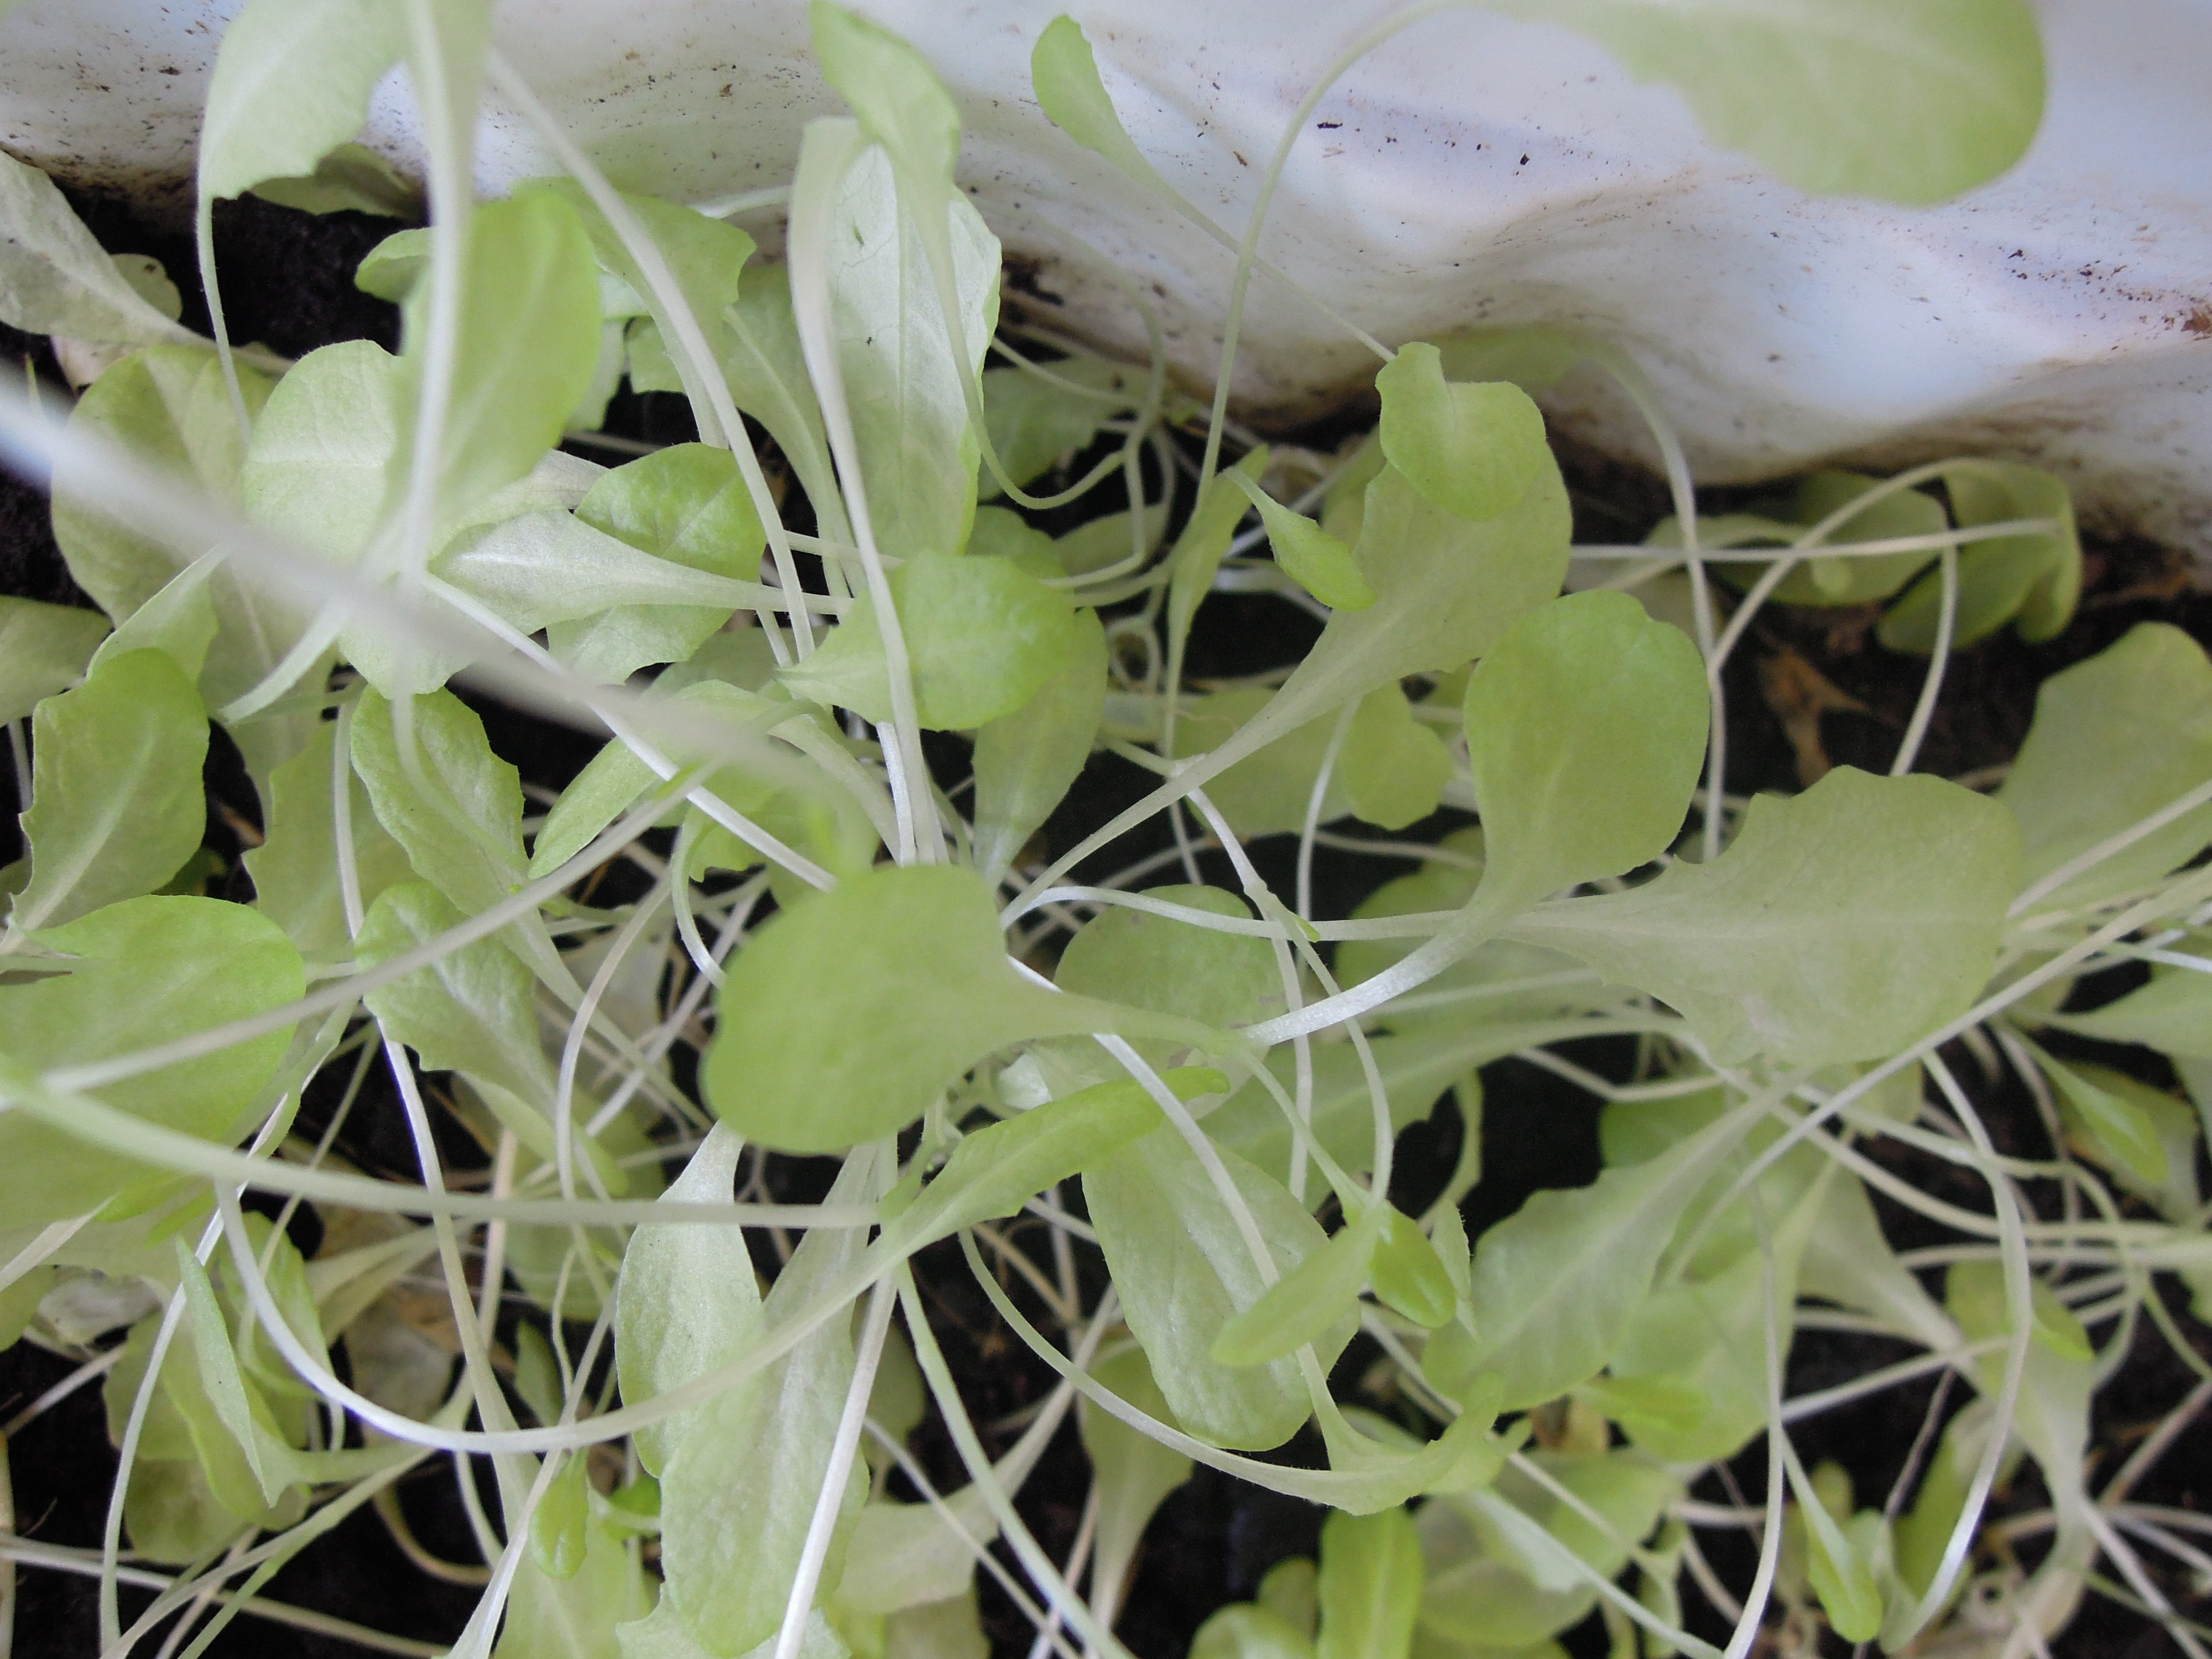weeek6: (575, 141, 1759, 1610)
